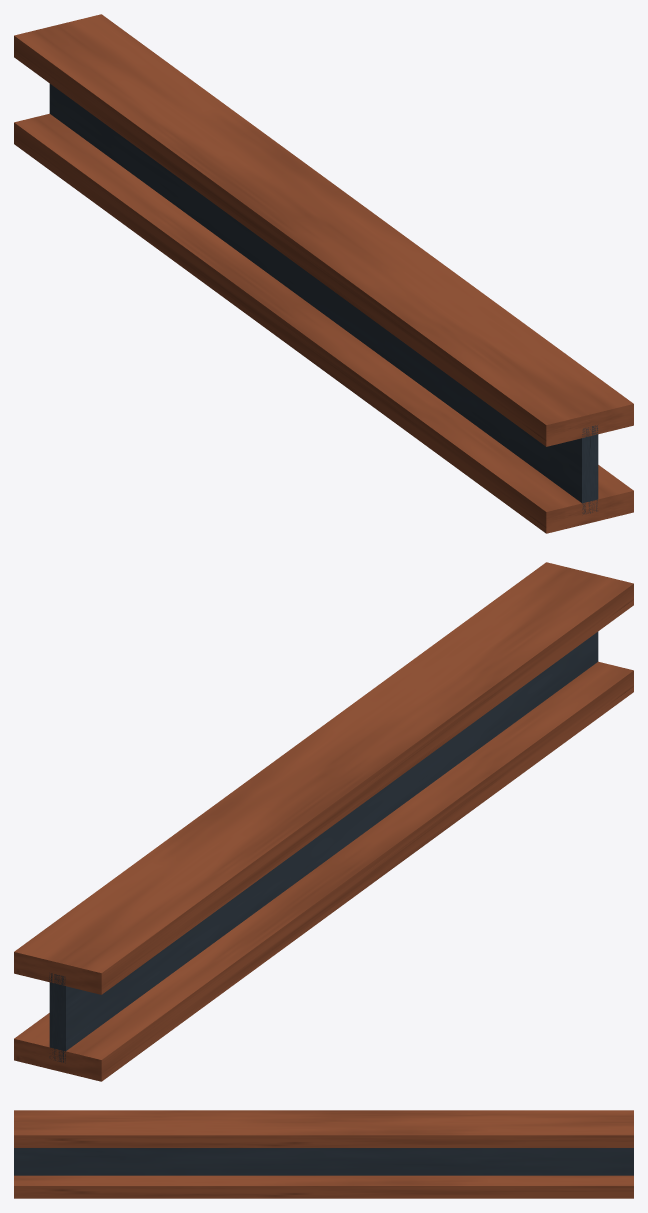
Rendered from SteelGirder.glb.
3 renders of one model, top to bottom at view 1: azimuth 30°, elevation 25°; view 2: azimuth 150°, elevation 25°; view 3: azimuth 270°, elevation 25°, orthographic. The views are drawn at different scales.
Visible parts, largest first — view 1: Flange.001, Flange, Web; view 2: Flange.001, Flange, Web; view 3: Flange.001, Web, Flange.
Boxes of the visible parts, x1=… form: Flange.001: x1=14, y1=14, x2=633, y2=446; Flange: x1=14, y1=113, x2=633, y2=533; Web: x1=49, y1=83, x2=598, y2=514; Flange.001: x1=14, y1=562, x2=633, y2=994; Flange: x1=14, y1=661, x2=633, y2=1081; Web: x1=49, y1=631, x2=598, y2=1063; Flange.001: x1=14, y1=1110, x2=633, y2=1147; Web: x1=14, y1=1148, x2=633, y2=1175; Flange: x1=14, y1=1175, x2=633, y2=1198.
Bounding box in the file's own units: 0.38 × 0.45 × 4.
2 materials, 2 textured.
